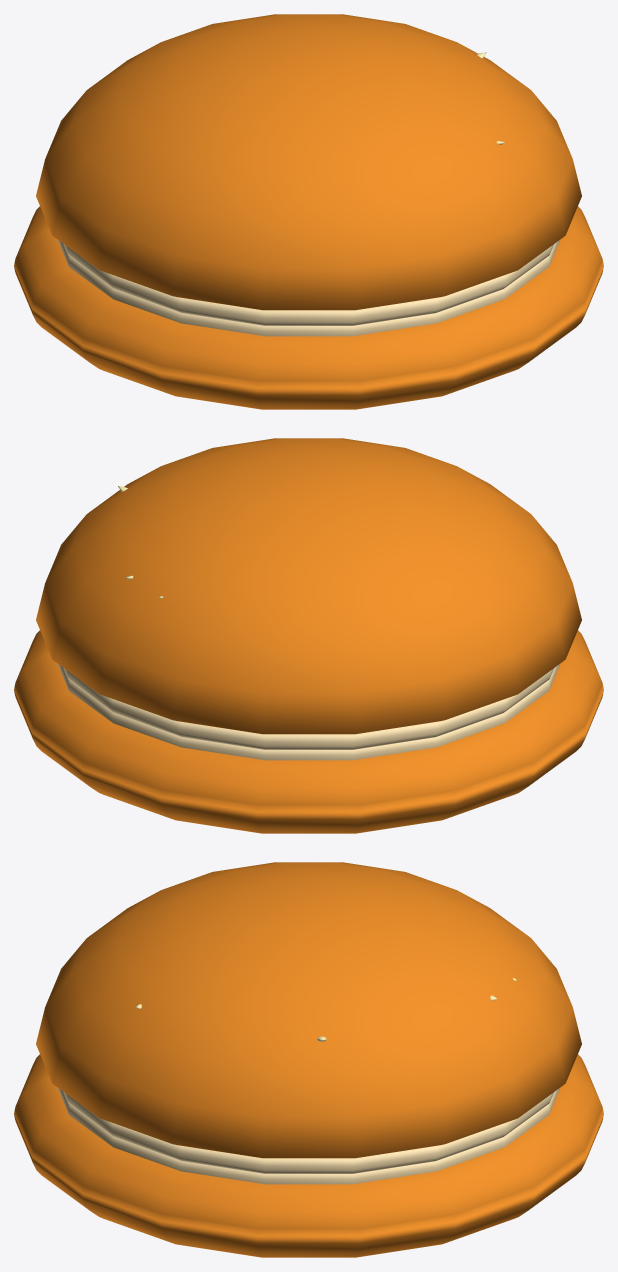
Rendered from food_ingredient_bun.gltf.
3 views of the same model, one above another, from view 1: azimuth 30°, elevation 25°; view 2: azimuth 150°, elevation 25°; view 3: azimuth 270°, elevation 25° (orthographic).
Visible parts, largest first — view 1: BunBotCrust; view 2: BunBotCrust; view 3: BunBotCrust.
Boxes of the visible parts, box(x1,y1,x2,y2) form: BunBotCrust: box(14, 14, 603, 409); BunBotCrust: box(14, 438, 603, 833); BunBotCrust: box(14, 862, 603, 1257).
Size of the model in its own units: 0.4638 by 0.2204 by 0.4709.
